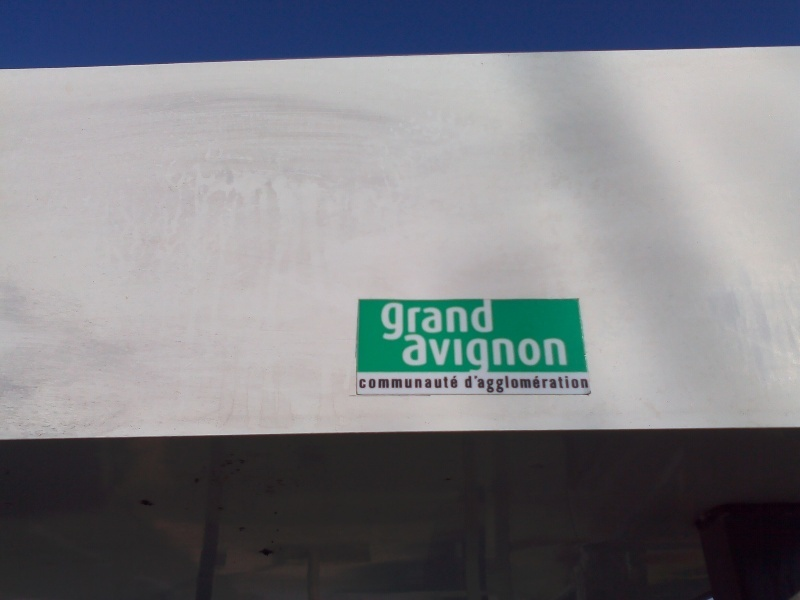text: (385, 298, 400, 341), (401, 298, 416, 341), (417, 298, 432, 341), (433, 298, 448, 341), (449, 298, 464, 341), (465, 298, 480, 341), (481, 298, 496, 341), (417, 333, 432, 376), (433, 333, 448, 376), (449, 333, 464, 376), (465, 333, 480, 376), (481, 333, 496, 376), (497, 333, 512, 376), (513, 333, 528, 376), (529, 333, 544, 376), (545, 333, 560, 376), (402, 333, 416, 376), (561, 333, 570, 376), (465, 375, 480, 393), (481, 375, 496, 393), (497, 375, 512, 393), (513, 375, 528, 393), (529, 375, 544, 393), (545, 375, 560, 393), (561, 375, 576, 393), (577, 375, 590, 393), (369, 375, 384, 390), (385, 375, 400, 390), (401, 375, 416, 390), (417, 375, 432, 390), (433, 375, 448, 390), (449, 375, 460, 390), (359, 375, 368, 390), (383, 298, 384, 341)
